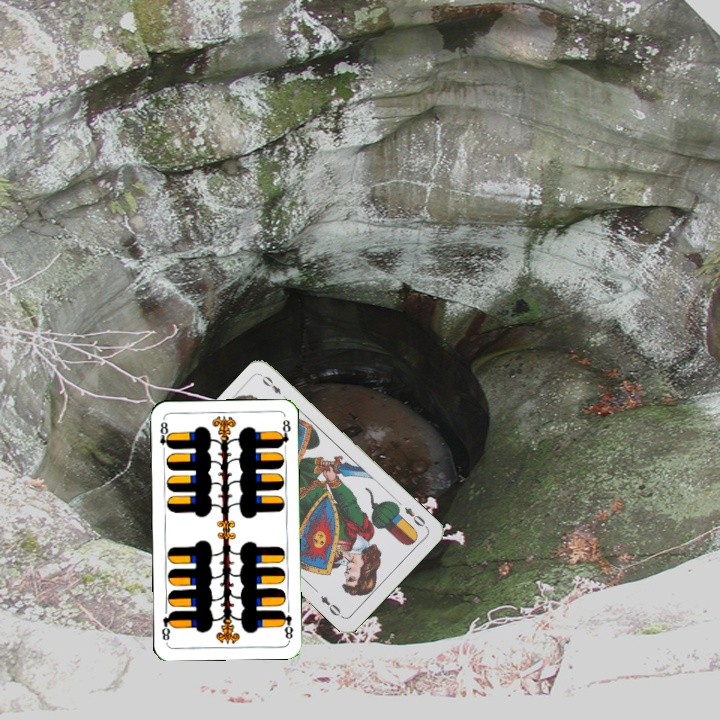E8: (156, 415, 173, 456), (277, 606, 296, 642)
EO: (400, 503, 430, 531)
